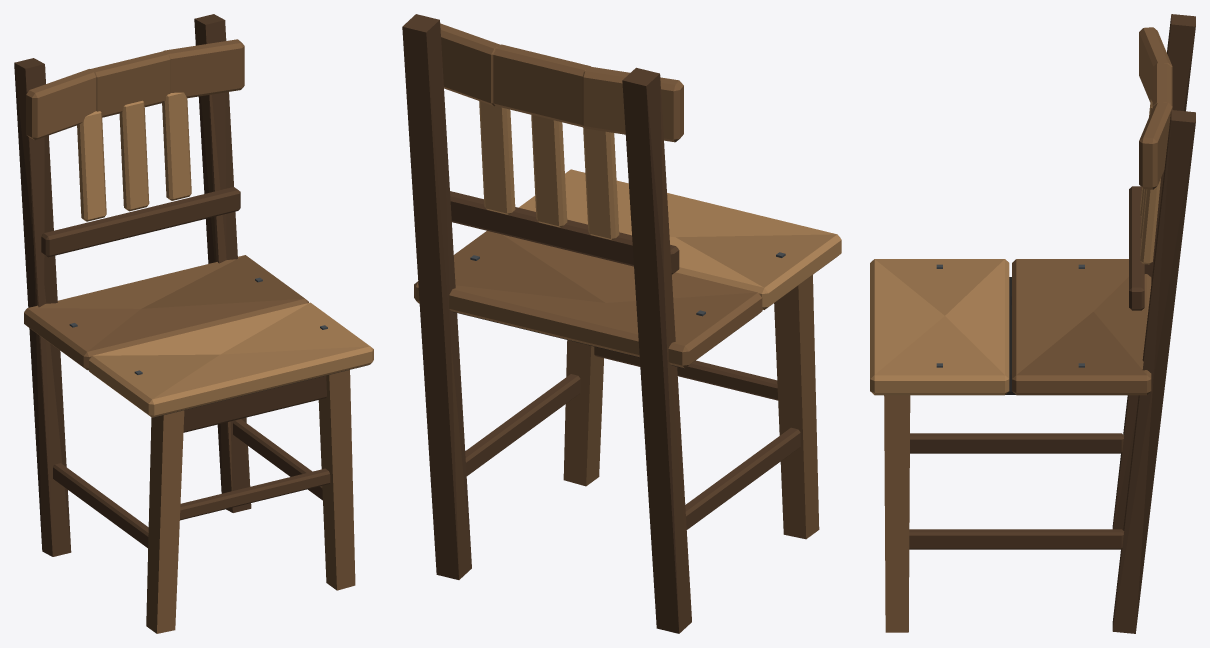
File: chair_wood_derevyannyy_idle.glb
3 renders of one model, left to right at view 1: azimuth 30°, elevation 25°; view 2: azimuth 150°, elevation 25°; view 3: azimuth 270°, elevation 25°, orthographic. The views are drawn at different scales.
Parts seen in each view (by area): view 1: chair_wood_derevyannyy_idle; view 2: chair_wood_derevyannyy_idle; view 3: chair_wood_derevyannyy_idle.
Part boxes in pixels (x1,y1,x2,y2): chair_wood_derevyannyy_idle: (14, 14, 373, 633); chair_wood_derevyannyy_idle: (402, 14, 841, 633); chair_wood_derevyannyy_idle: (870, 14, 1195, 633).
Size of the model in its own units: 0.45 by 0.899 by 0.5166.
Materials: 1 (1 with a texture image).
